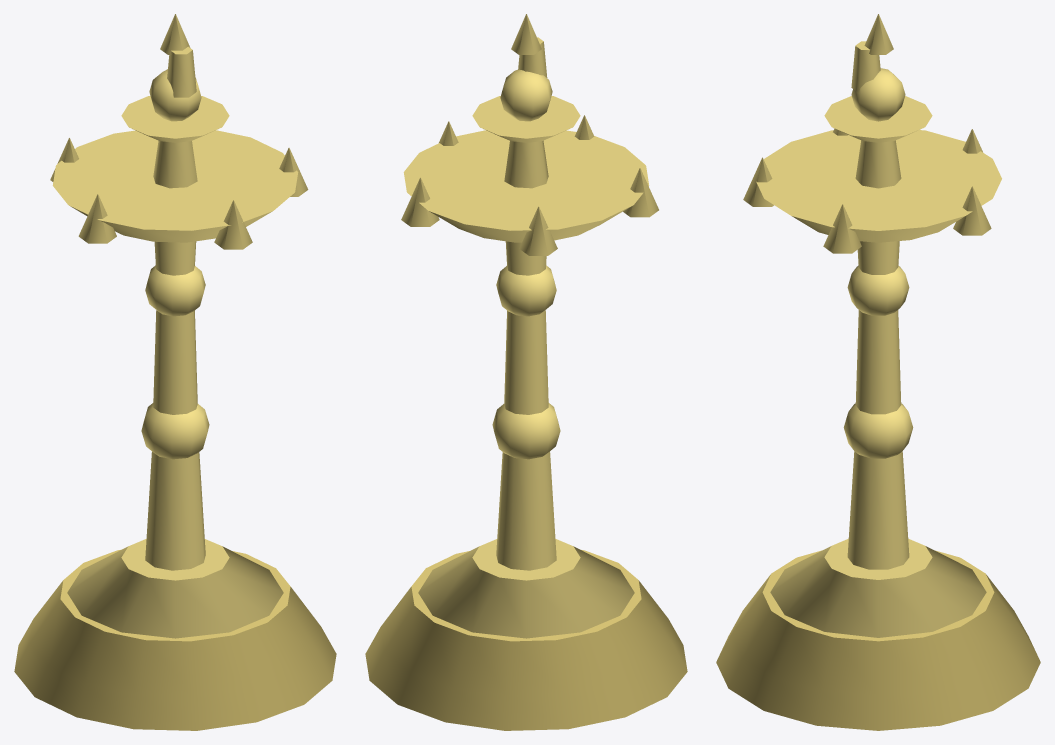
The model's file is kuthu_vilakku.glb.
3 views of the same model, side by side, from view 1: azimuth 30°, elevation 25°; view 2: azimuth 150°, elevation 25°; view 3: azimuth 270°, elevation 25° (orthographic).
Parts seen in each view (by area): view 1: Base_Petals_Node, Oil_Basin_Plate_Node, Base_Molding_Node, Base_Ring_0_Node, Stem_Lower_Node, Stem_Mid_Node, Secondary_Plate_Node, Stem_Bead_1_Node, Stem_Bead_2_Node, Upper_Neck_Node, Annam_Body_Node, Stem_Upper_Node (+5 smaller); view 2: Base_Petals_Node, Oil_Basin_Plate_Node, Base_Molding_Node, Base_Ring_0_Node, Stem_Lower_Node, Stem_Mid_Node, Secondary_Plate_Node, Stem_Bead_1_Node, Stem_Bead_2_Node, Annam_Body_Node, Upper_Neck_Node, Wick_Spout_3_Node (+5 smaller); view 3: Base_Petals_Node, Oil_Basin_Plate_Node, Base_Molding_Node, Base_Ring_0_Node, Stem_Lower_Node, Stem_Mid_Node, Secondary_Plate_Node, Stem_Bead_1_Node, Stem_Bead_2_Node, Annam_Body_Node, Upper_Neck_Node, Stem_Upper_Node (+5 smaller).
Part boxes in pixels (x1,y1,x2,y2): Base_Petals_Node: (29, 550, 320, 696); Oil_Basin_Plate_Node: (52, 130, 298, 242); Base_Molding_Node: (67, 538, 283, 638); Base_Ring_0_Node: (14, 619, 336, 730); Stem_Lower_Node: (145, 451, 205, 570); Stem_Mid_Node: (153, 310, 197, 414); Secondary_Plate_Node: (121, 96, 229, 142); Stem_Bead_1_Node: (141, 403, 209, 459); Stem_Bead_2_Node: (145, 265, 205, 316); Upper_Neck_Node: (153, 140, 197, 188); Annam_Body_Node: (149, 69, 201, 121); Stem_Upper_Node: (154, 241, 196, 275); Base_Petals_Node: (381, 550, 672, 696); Oil_Basin_Plate_Node: (403, 130, 649, 242); Base_Molding_Node: (418, 538, 634, 638); Base_Ring_0_Node: (365, 619, 687, 730); Stem_Lower_Node: (496, 451, 556, 570); Stem_Mid_Node: (504, 310, 548, 414); Secondary_Plate_Node: (472, 96, 580, 142); Stem_Bead_1_Node: (492, 403, 560, 459); Stem_Bead_2_Node: (496, 265, 556, 316); Annam_Body_Node: (500, 69, 552, 121); Upper_Neck_Node: (504, 140, 548, 188); Wick_Spout_3_Node: (519, 206, 557, 255); Base_Petals_Node: (731, 550, 1025, 696); Oil_Basin_Plate_Node: (756, 130, 1001, 242); Base_Molding_Node: (770, 538, 986, 637); Base_Ring_0_Node: (716, 613, 1040, 730); Stem_Lower_Node: (847, 451, 909, 569); Stem_Mid_Node: (855, 310, 901, 414); Secondary_Plate_Node: (824, 96, 932, 142); Stem_Bead_1_Node: (843, 403, 913, 458); Stem_Bead_2_Node: (847, 265, 909, 315); Annam_Body_Node: (851, 68, 905, 121); Upper_Neck_Node: (855, 140, 901, 188); Stem_Upper_Node: (857, 241, 899, 274).
Bounding box in the file's own units: 0.84 × 1.85 × 0.84.
